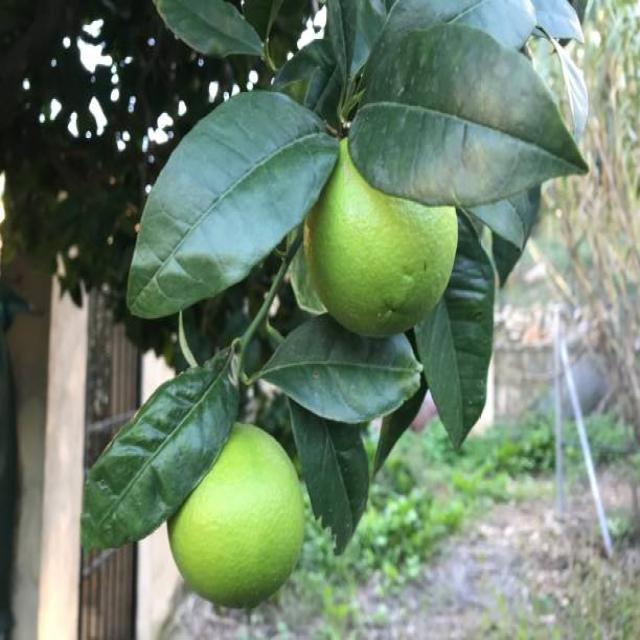Unripe: (168, 418, 306, 612)
